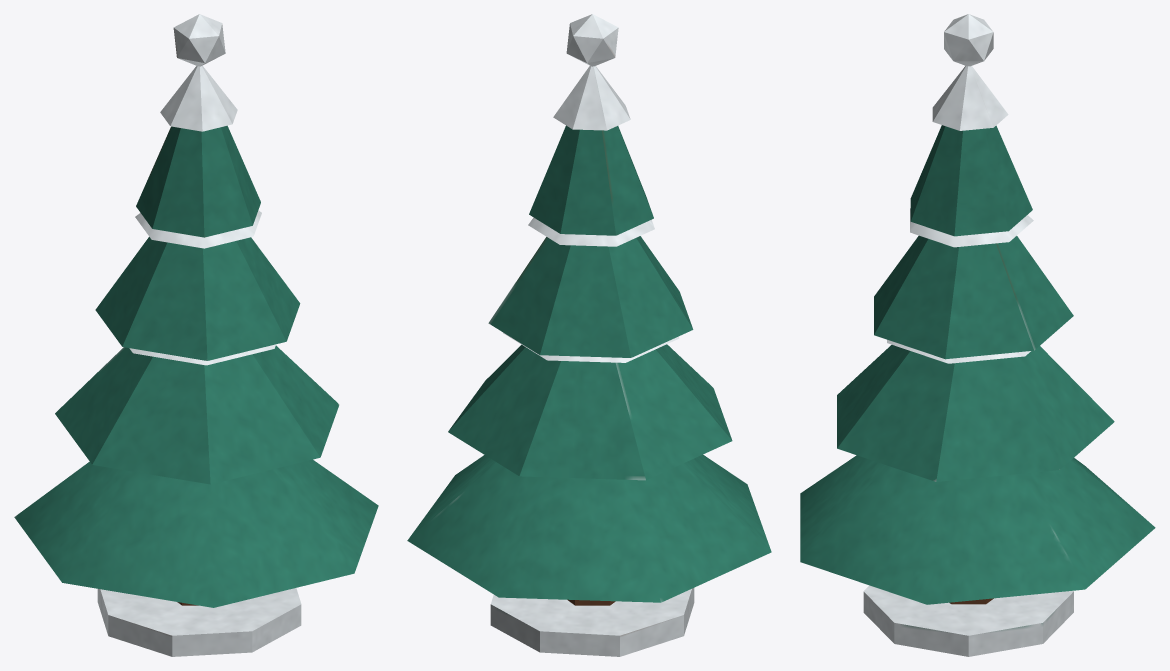
The model's file is snow_pine.fbx.
The picture shows the model from 3 angles, left to right: view 1: azimuth 30°, elevation 25°; view 2: azimuth 150°, elevation 25°; view 3: azimuth 270°, elevation 25°; orthographic projection.
Parts seen in each view (by area): view 1: Snow_pine; view 2: Snow_pine; view 3: Snow_pine.
Part boxes in pixels (box(x1,y1,x2,y2)): Snow_pine: box(14, 14, 378, 656); Snow_pine: box(407, 14, 771, 656); Snow_pine: box(800, 14, 1155, 656).
Size of the model in its own units: 3.12 by 5.65 by 3.04.
1 material, 1 textured.
